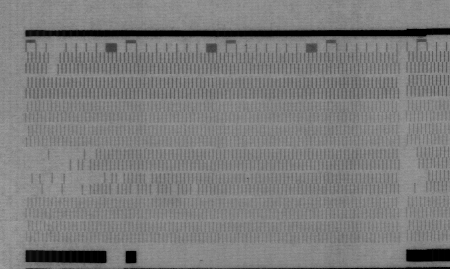Broken hole: (24, 146, 94, 197), (404, 146, 431, 194), (93, 170, 127, 186), (144, 171, 161, 197), (46, 52, 61, 75), (189, 181, 201, 197), (109, 183, 121, 195), (129, 183, 141, 195), (170, 183, 180, 197)
Oblique printing: (243, 172, 254, 186)
